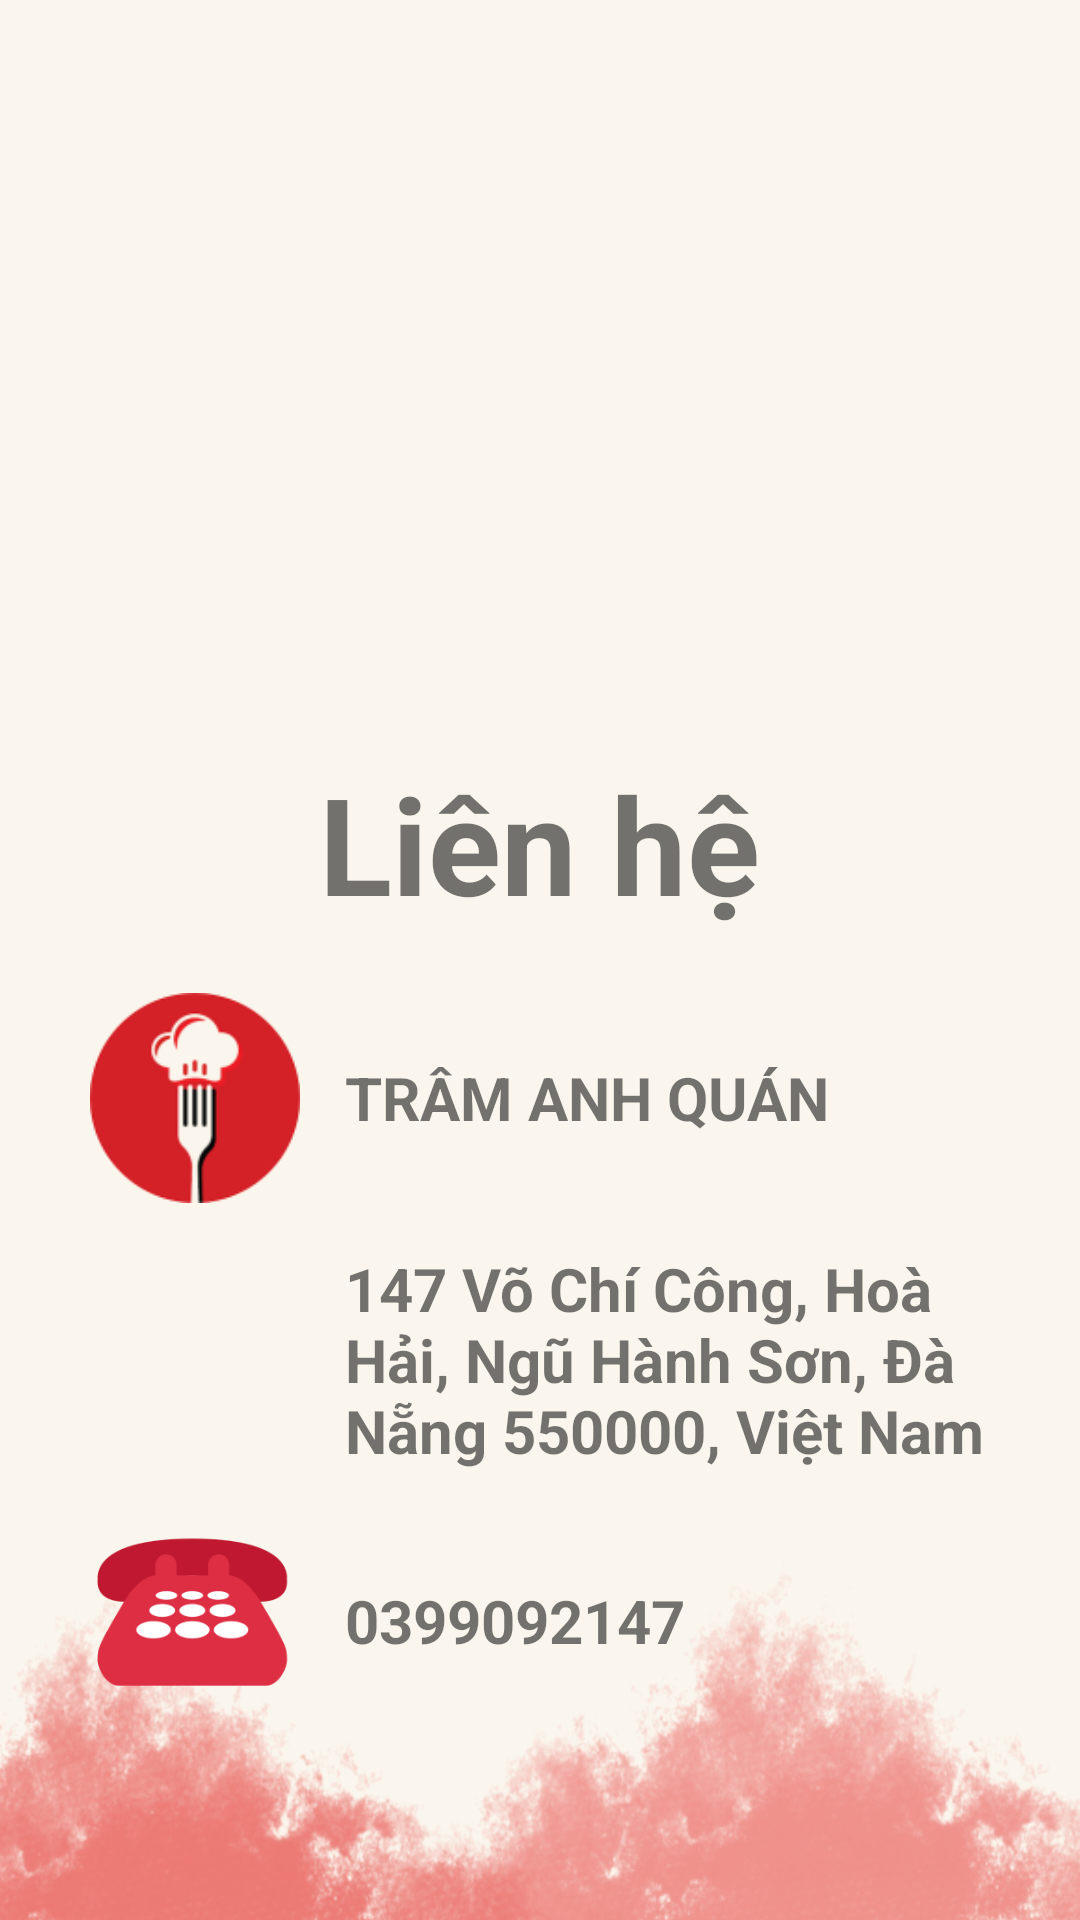

Icon click points for this 1080px×1920px phone screenshot, format (x,y):
iconphone: (181,1639)
